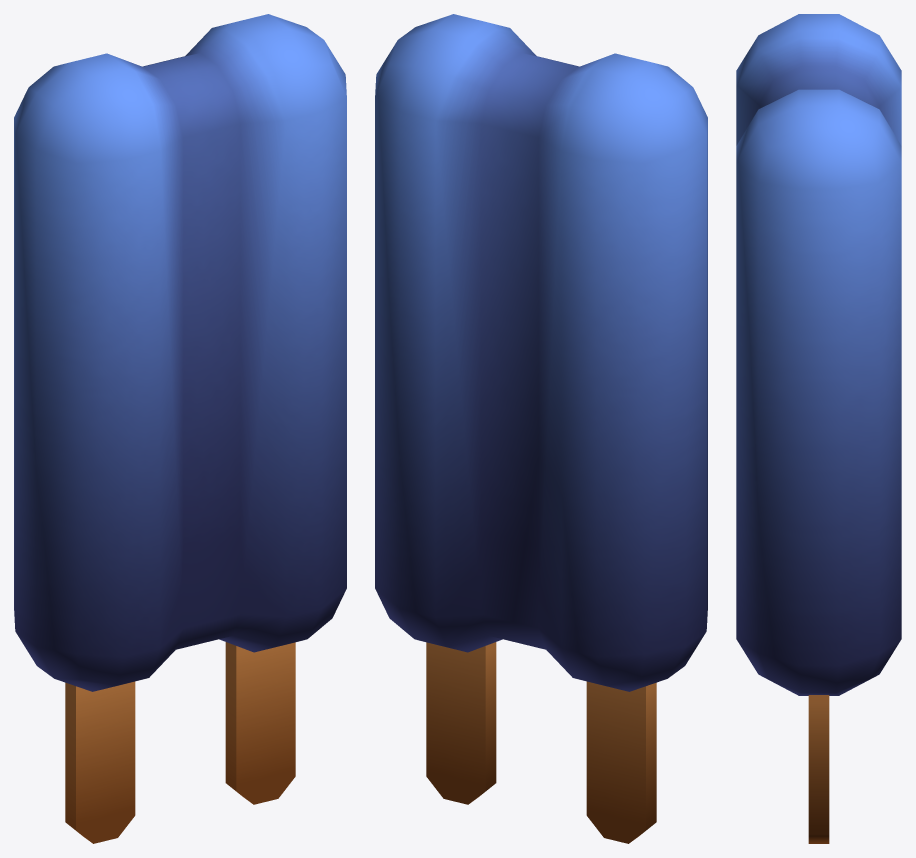
Rendered from m_DoublePopsicle06.fbx.
3 renders of one model, left to right at view 1: azimuth 30°, elevation 25°; view 2: azimuth 150°, elevation 25°; view 3: azimuth 270°, elevation 25°, orthographic. The views are drawn at different scales.
Parts seen in each view (by area): view 1: m_DoublePopsicle06_L, m_DoublePopsicle06_R; view 2: m_DoublePopsicle06_L, m_DoublePopsicle06_R; view 3: m_DoublePopsicle06_R, m_DoublePopsicle06_L.
Boxes of the visible parts, left/top/right/bottom form: m_DoublePopsicle06_L: left=14, top=53, right=211, bottom=843; m_DoublePopsicle06_R: left=159, top=14, right=346, bottom=804; m_DoublePopsicle06_L: left=510, top=53, right=707, bottom=843; m_DoublePopsicle06_R: left=375, top=14, right=562, bottom=804; m_DoublePopsicle06_R: left=736, top=80, right=901, bottom=843; m_DoublePopsicle06_L: left=736, top=14, right=901, bottom=145.
Size of the model in its own units: 9.64 by 22.99 by 4.64.
